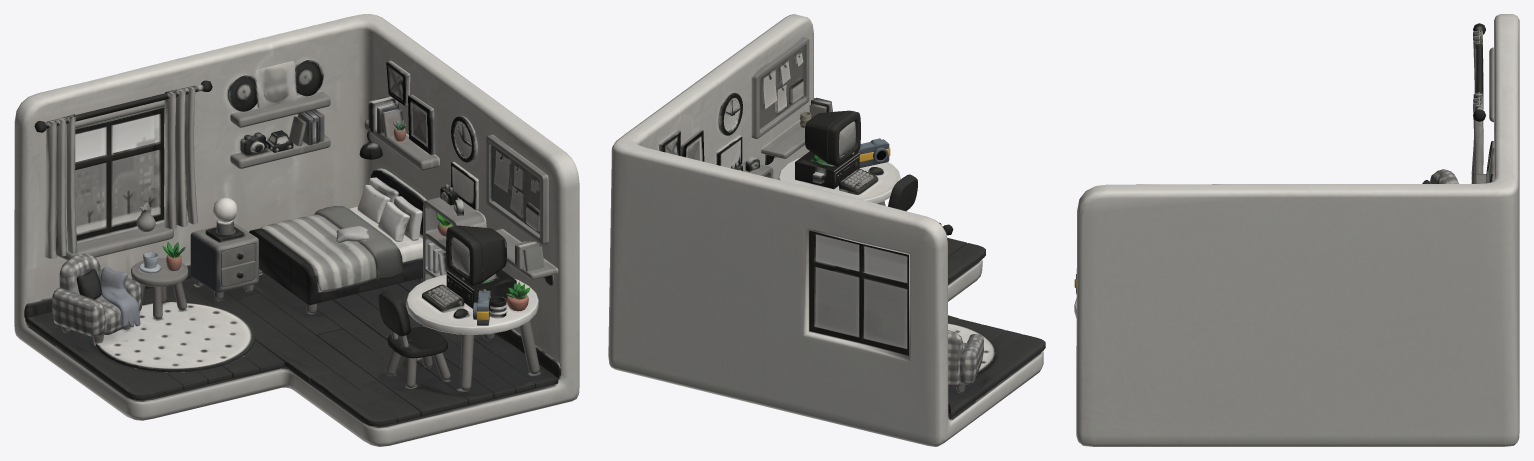
Rendered from clayroom.glb.
3 views of the same model, side by side, from view 1: azimuth 30°, elevation 25°; view 2: azimuth 150°, elevation 25°; view 3: azimuth 270°, elevation 25° (orthographic). The views are drawn at different scales.
Parts seen in each view (by area): view 1: Room, Computer; view 2: Room, Computer, Camera; view 3: Room.
Part boxes in pixels (x1,y1,x2,y2): Room: (14,14,579,446); Computer: (422,225,516,312); Room: (608,14,1045,446); Computer: (795,110,878,194); Camera: (857,138,890,167); Room: (1074,14,1519,446).
Bounding box in the file's own units: 17.94 × 11.47 × 17.92.
Materials: 2 (2 with a texture image).
